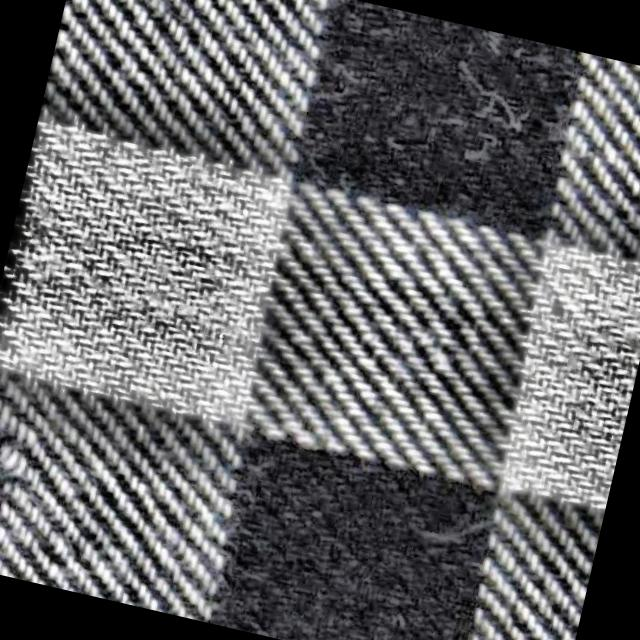cut: (0, 394, 63, 578)
selvet: (422, 48, 560, 182), (408, 494, 508, 574), (305, 44, 386, 137)
